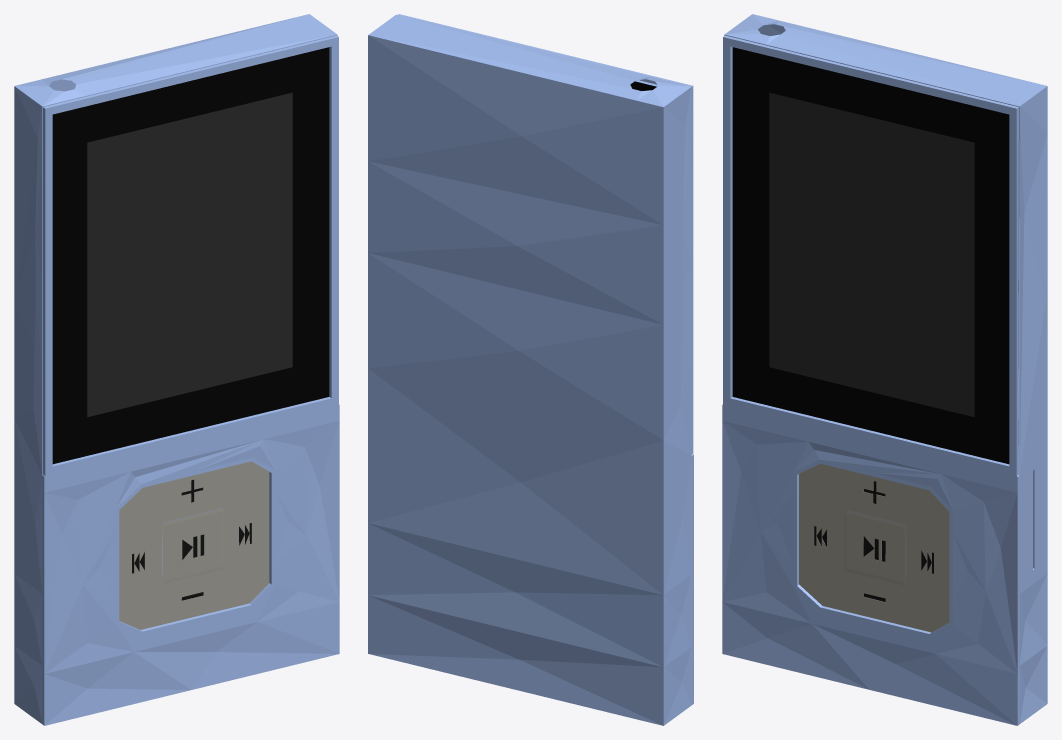
3 renders of one model, left to right at view 1: azimuth 30°, elevation 25°; view 2: azimuth 150°, elevation 25°; view 3: azimuth 330°, elevation 25°, orthographic.
Parts seen in each view (by area): view 1: body, screen, edge_screen, touch_pad; view 2: body; view 3: body, screen, edge_screen, touch_pad.
Boxes of the visible parts, x1,y1,x2,y2 form: body: [14, 14, 339, 725]; screen: [87, 92, 292, 417]; edge_screen: [52, 47, 329, 464]; touch_pad: [119, 461, 269, 629]; body: [368, 14, 693, 725]; body: [722, 14, 1047, 725]; screen: [769, 92, 974, 417]; edge_screen: [732, 47, 1009, 464]; touch_pad: [799, 464, 949, 632].
Size of the model in its own units: 40 by 80.38 by 7.52.
